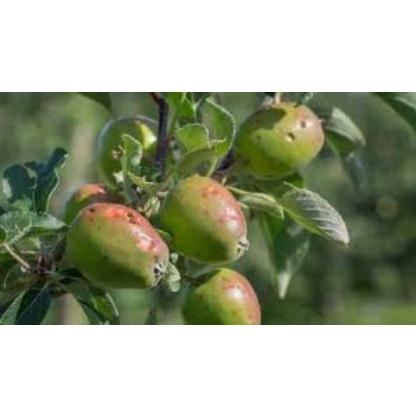apple: (64, 200, 172, 288), (158, 178, 252, 264), (233, 101, 322, 180), (174, 260, 260, 320)
